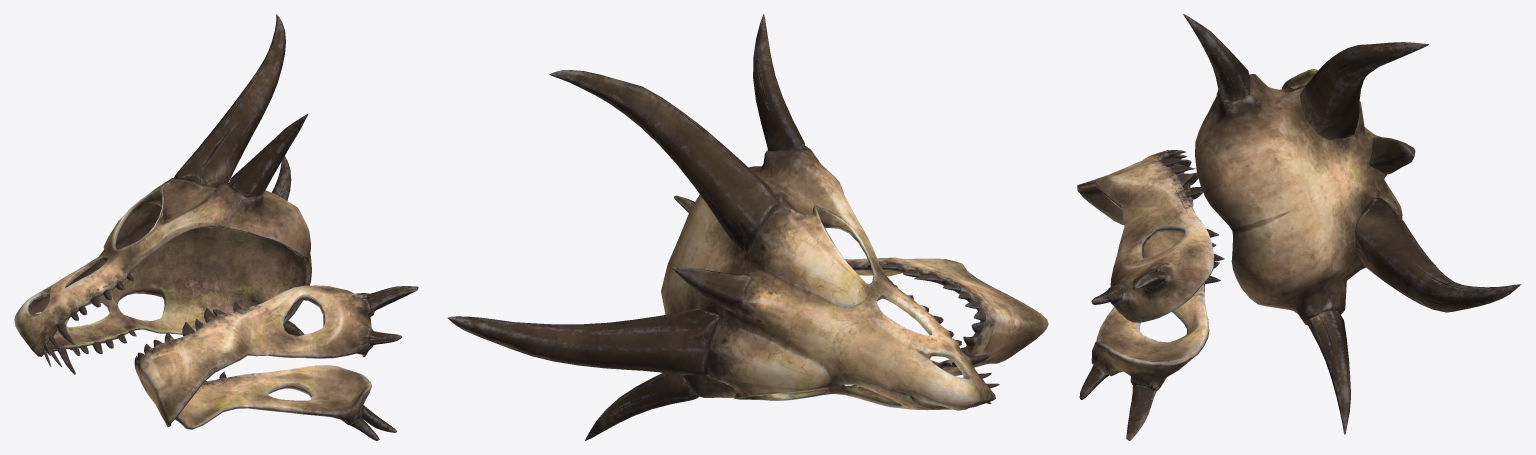
The picture shows the model from 3 angles, left to right: view 1: azimuth 30°, elevation 25°; view 2: azimuth 150°, elevation 25°; view 3: azimuth 270°, elevation 25°; orthographic projection. The views are drawn at different scales.
Parts seen in each view (by area): view 1: SM_Dragon_Head_01v2_LOD0; view 2: SM_Dragon_Head_01v2_LOD0; view 3: SM_Dragon_Head_01v2_LOD0.
Part boxes in pixels (x1,y1,x2,y2): SM_Dragon_Head_01v2_LOD0: (14, 14, 418, 440); SM_Dragon_Head_01v2_LOD0: (447, 14, 1048, 440); SM_Dragon_Head_01v2_LOD0: (1077, 14, 1521, 440).
Bounding box in the file's own units: 22.06 × 20.18 × 20.38.
Materials: 10 (10 with a texture image).
